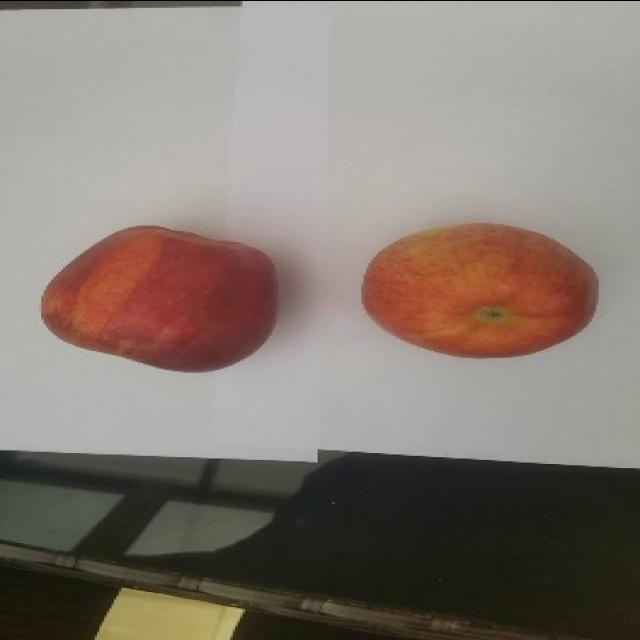Apple: (40, 223, 279, 373), (360, 221, 599, 358)
